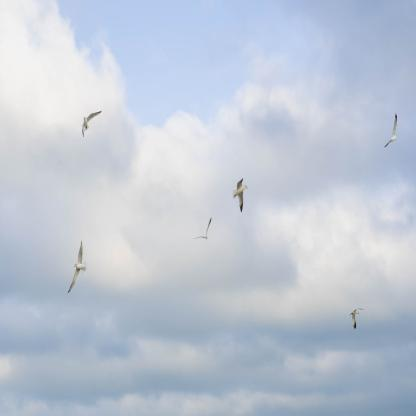bird: (67, 240, 87, 295), (82, 110, 102, 138), (233, 178, 249, 212), (192, 216, 212, 240), (384, 113, 397, 148), (350, 308, 363, 329)
